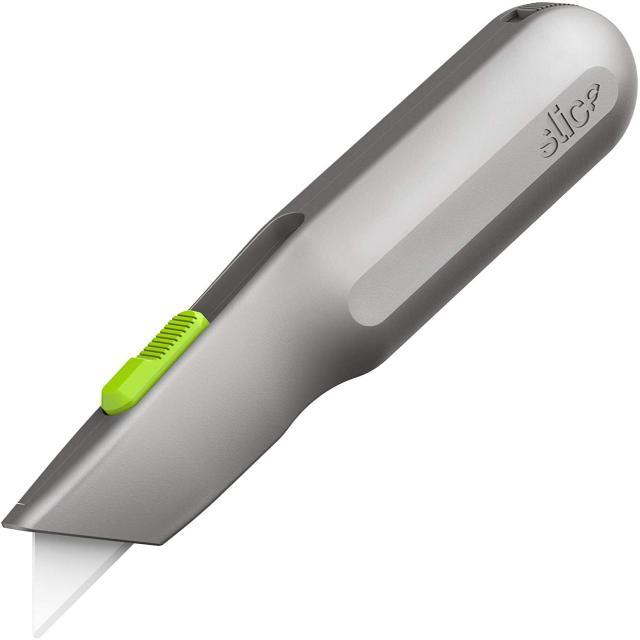estilete: (5, 3, 636, 631)
